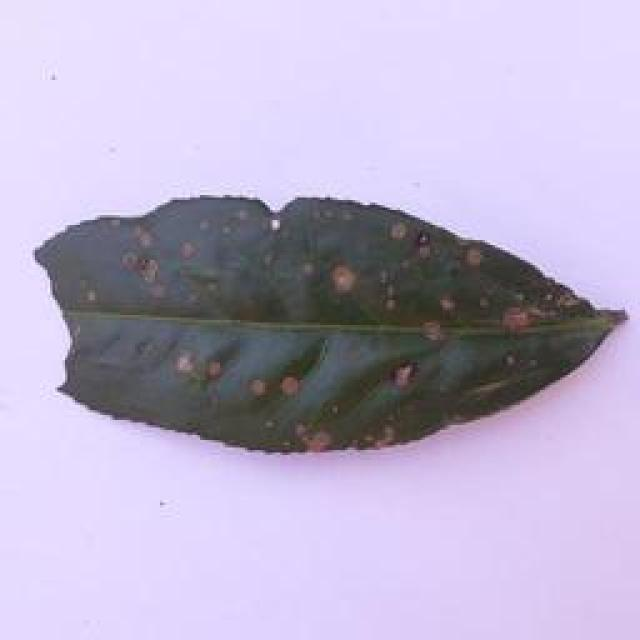Algal Leaf Spot: (18, 174, 640, 473)
